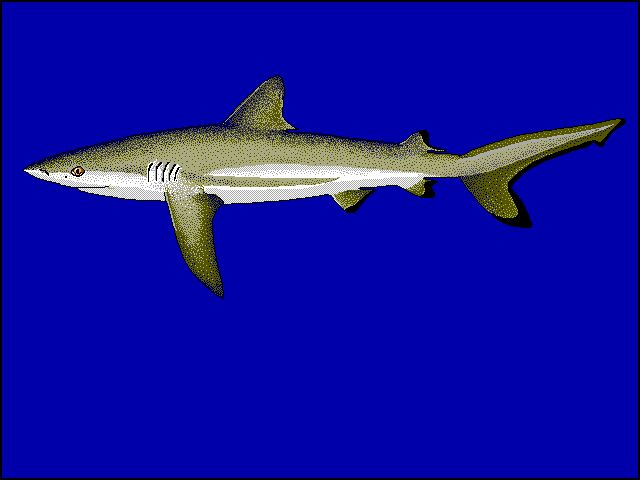fish: (22, 73, 626, 300)
